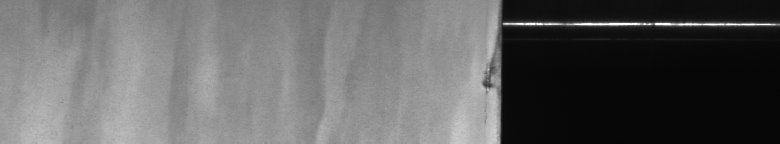hb: (475, 44, 492, 124)
